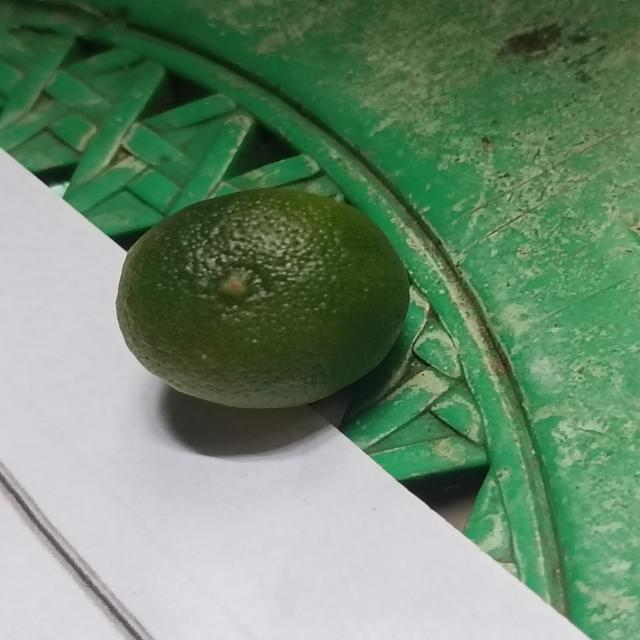heathy: (117, 186, 419, 410)
